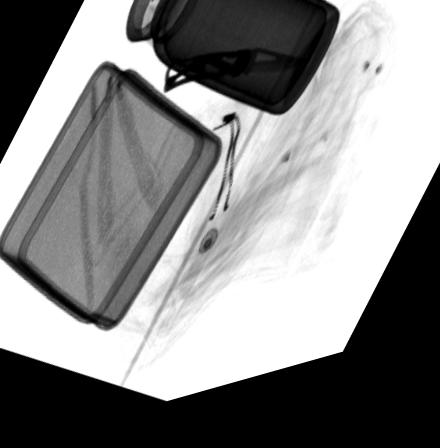Knife: (163, 61, 313, 104)
